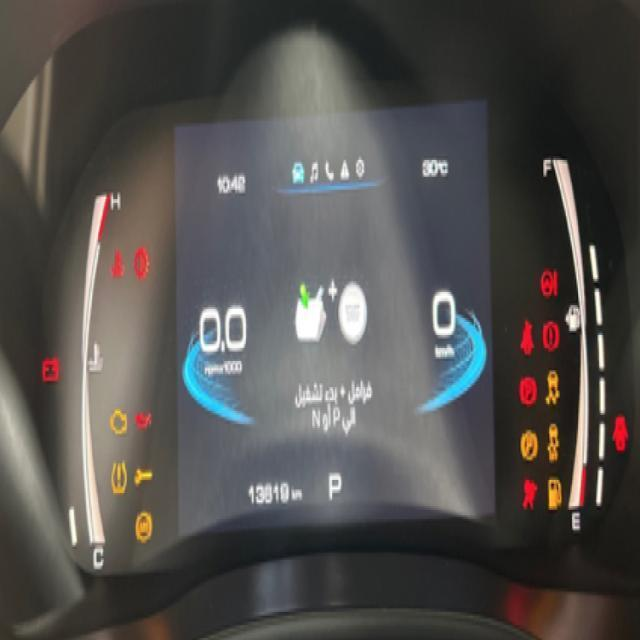High Engine Coolant Temperature: (108, 245, 127, 282)
